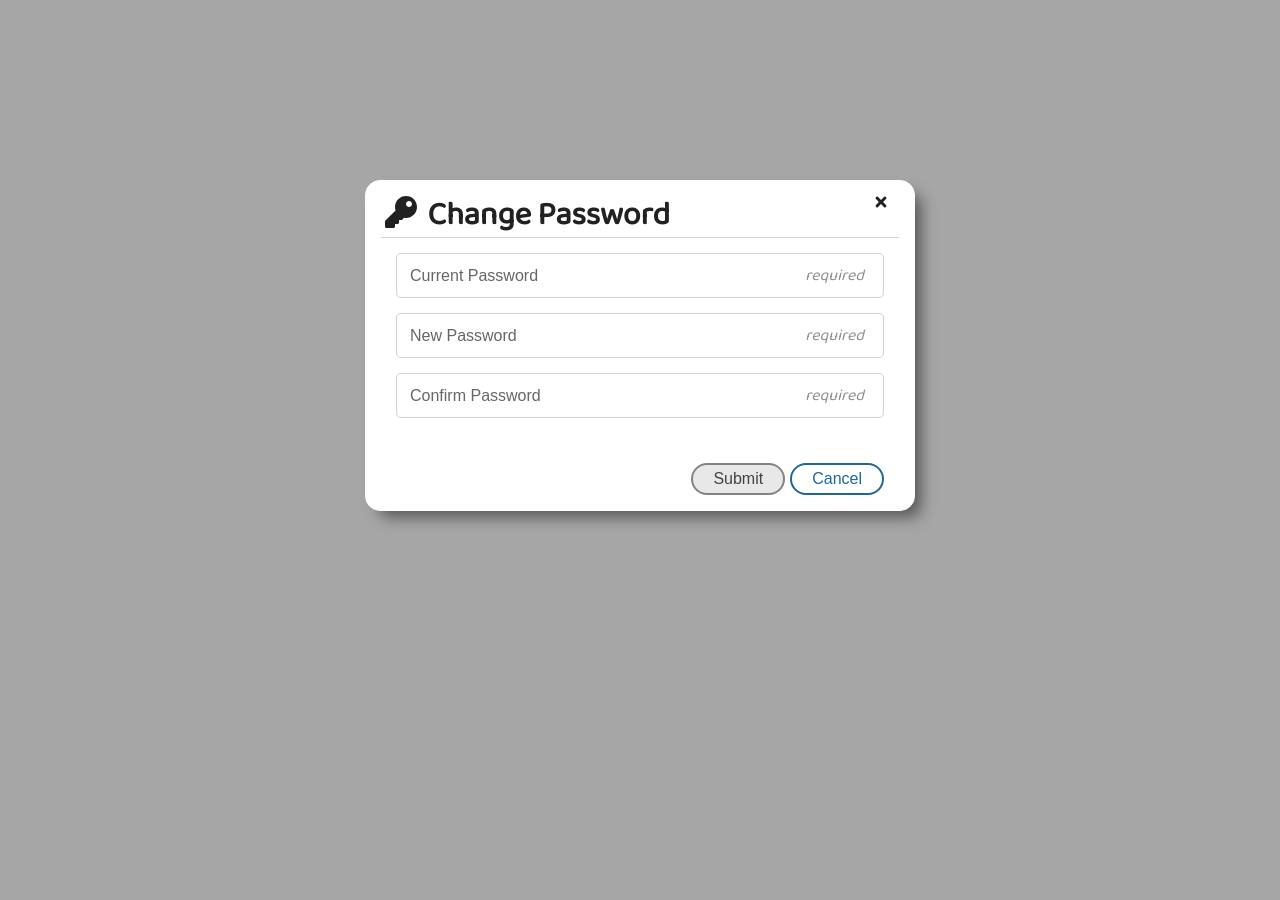
Test: <ChangePasswordModal /> › should render an error message if one is returned from the API
Type "someCurrentPassword" into the password field with test id "currentPasswordInput.input".
click(640, 276); type("someCurrentPassword")  # box [396,253,884,298]
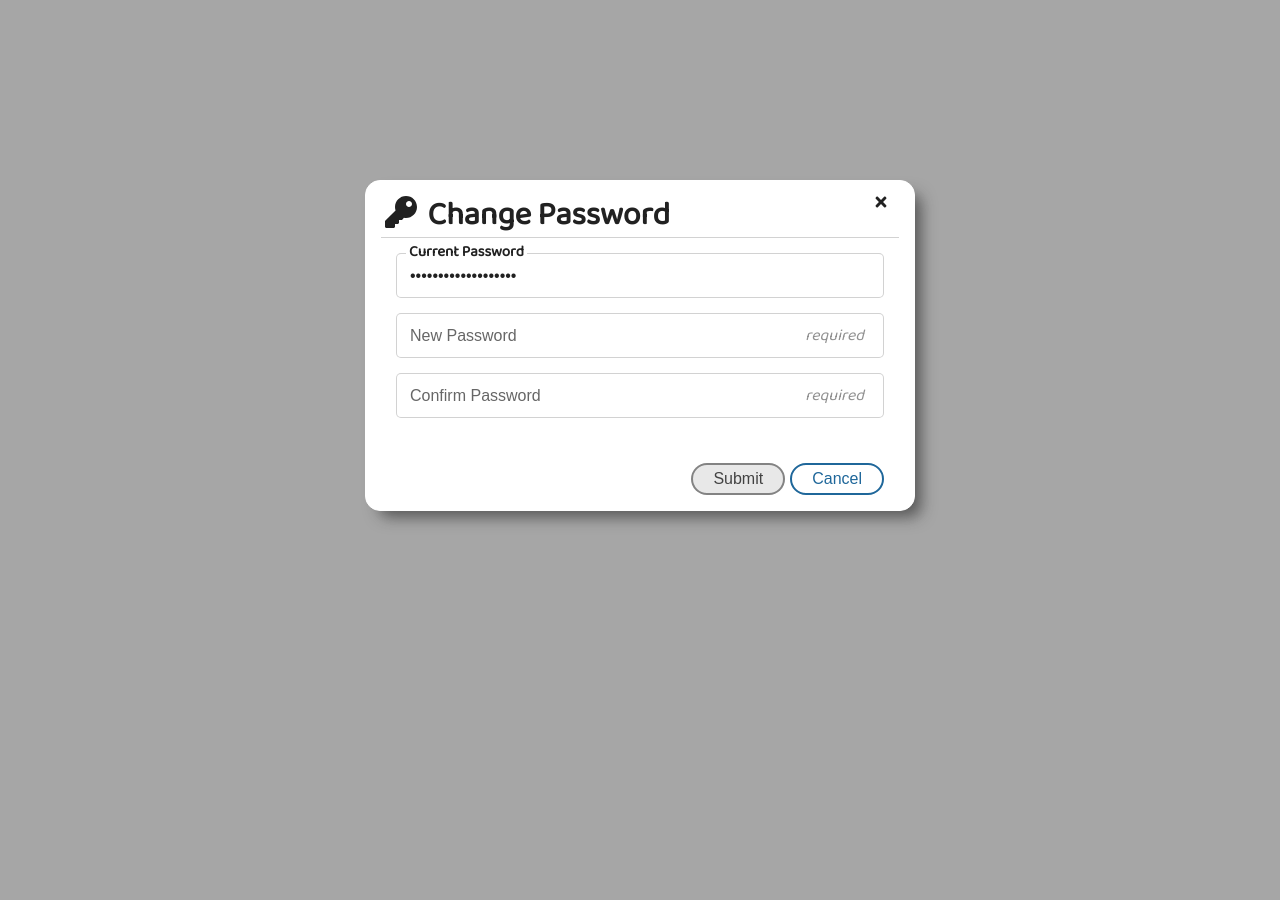
Type "someNewPasswordInput" into the password field with test id "newPasswordInput.input".
click(640, 336); type("someNewPasswordInput")  # box [396,313,884,358]
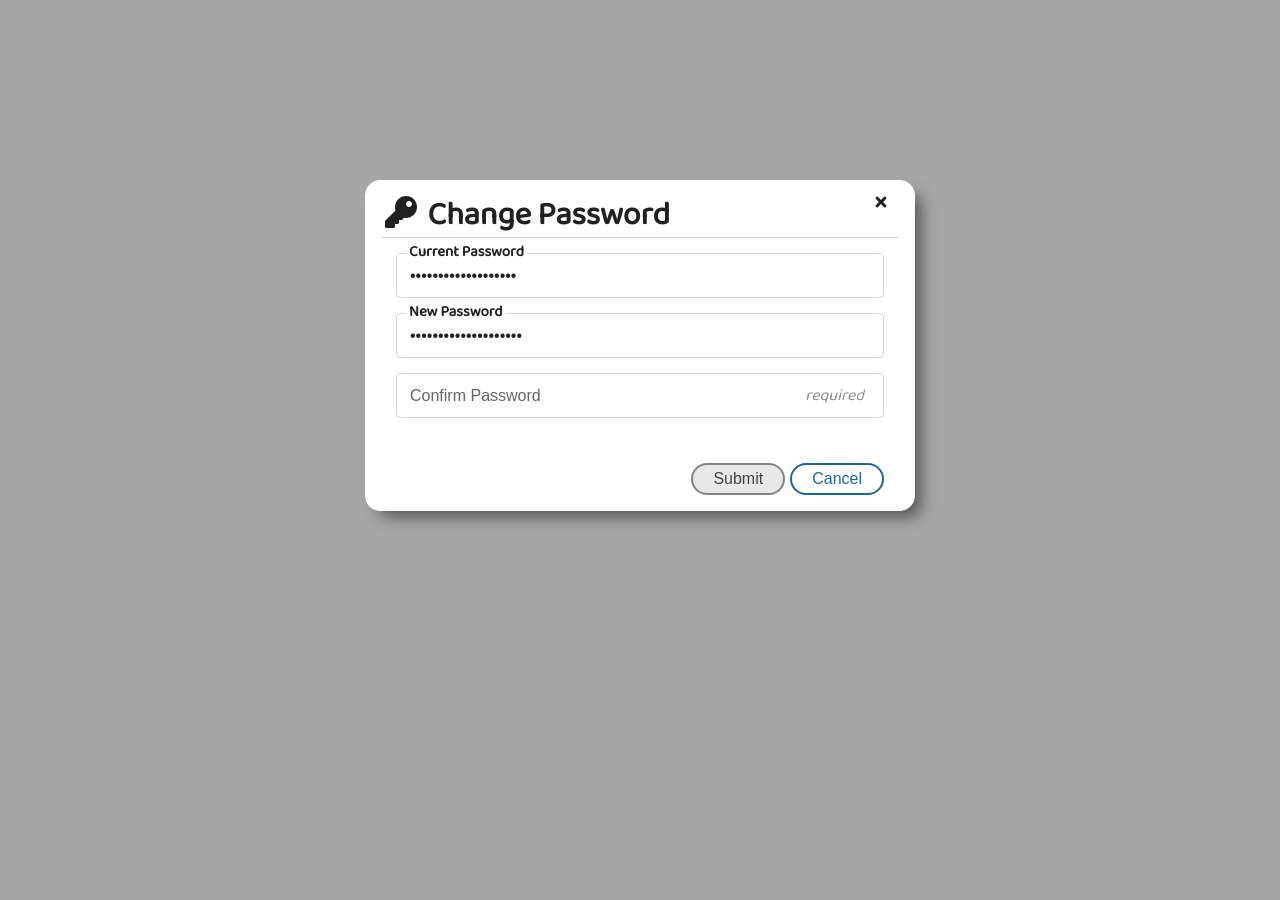
Type "someNewPasswordInput" into the password field with test id "confirmPasswordInput.input".
click(640, 396); type("someNewPasswordInput")  # box [396,373,884,418]
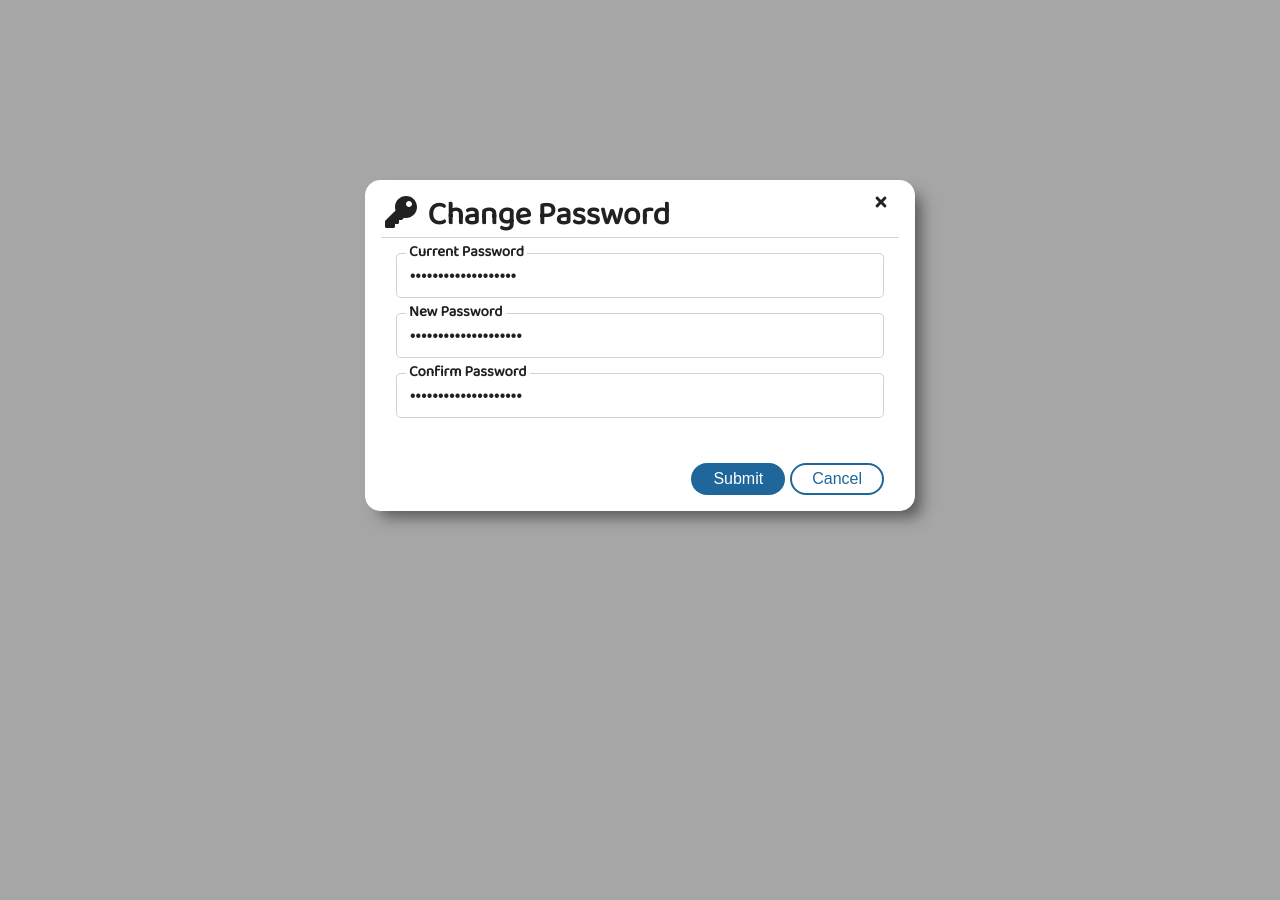
Expected: the text "unit testing confirm error" is not shown
Click the button with test id "changePasswordModal.actions.primaryButton".
click(738, 479)  # box [691,463,785,495]
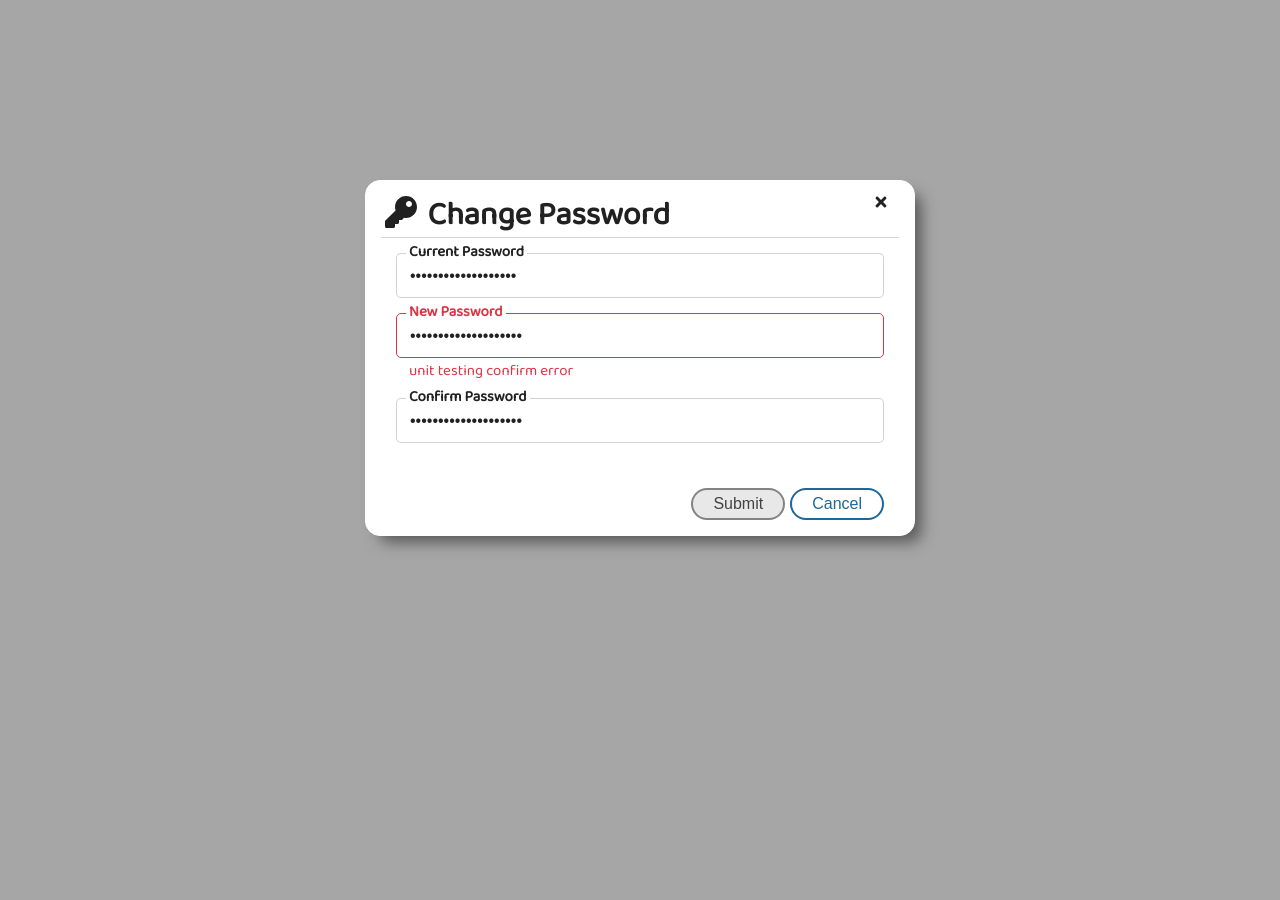
Expected: the text "unit testing confirm error" is shown, [409,359,573,383]
